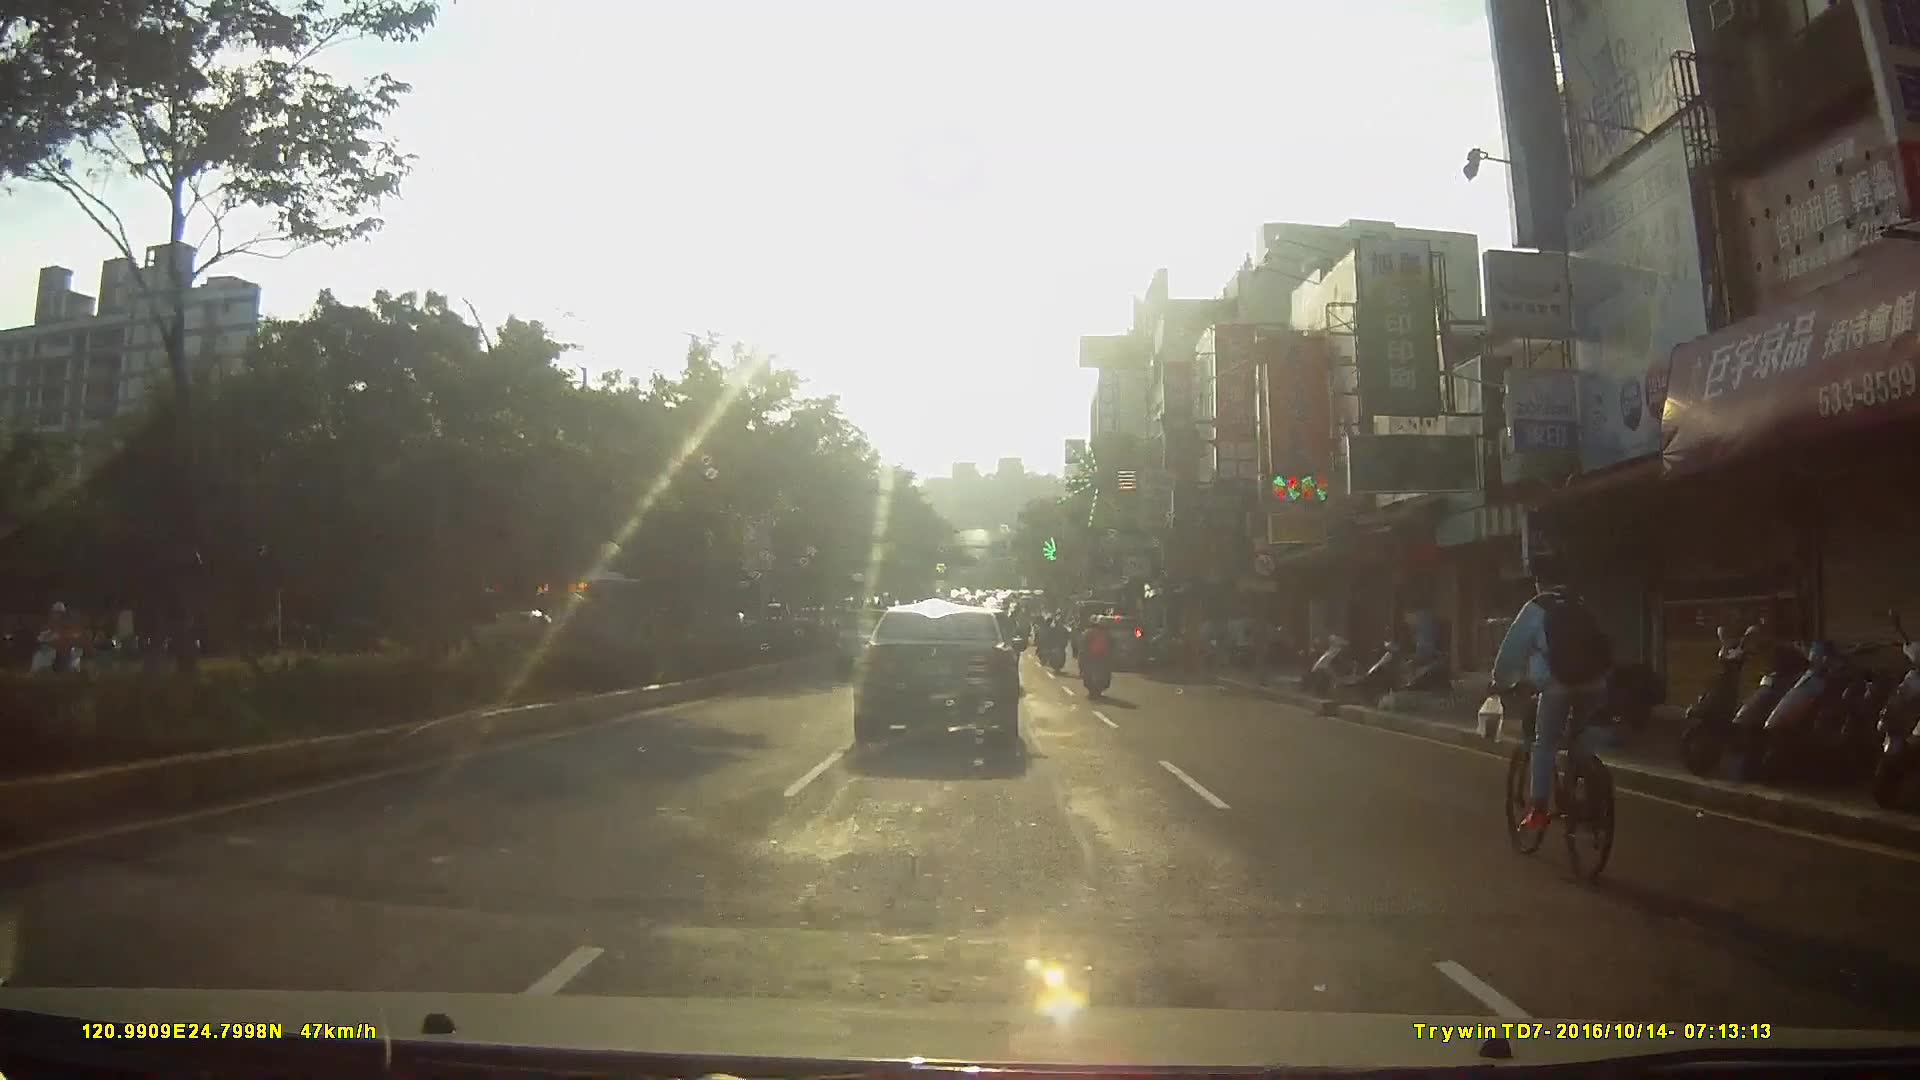rider: (1486, 558, 1621, 879), (24, 598, 92, 702), (1074, 618, 1116, 711), (1043, 618, 1071, 677)
vehicle: (848, 597, 1037, 767), (1082, 611, 1152, 673)
